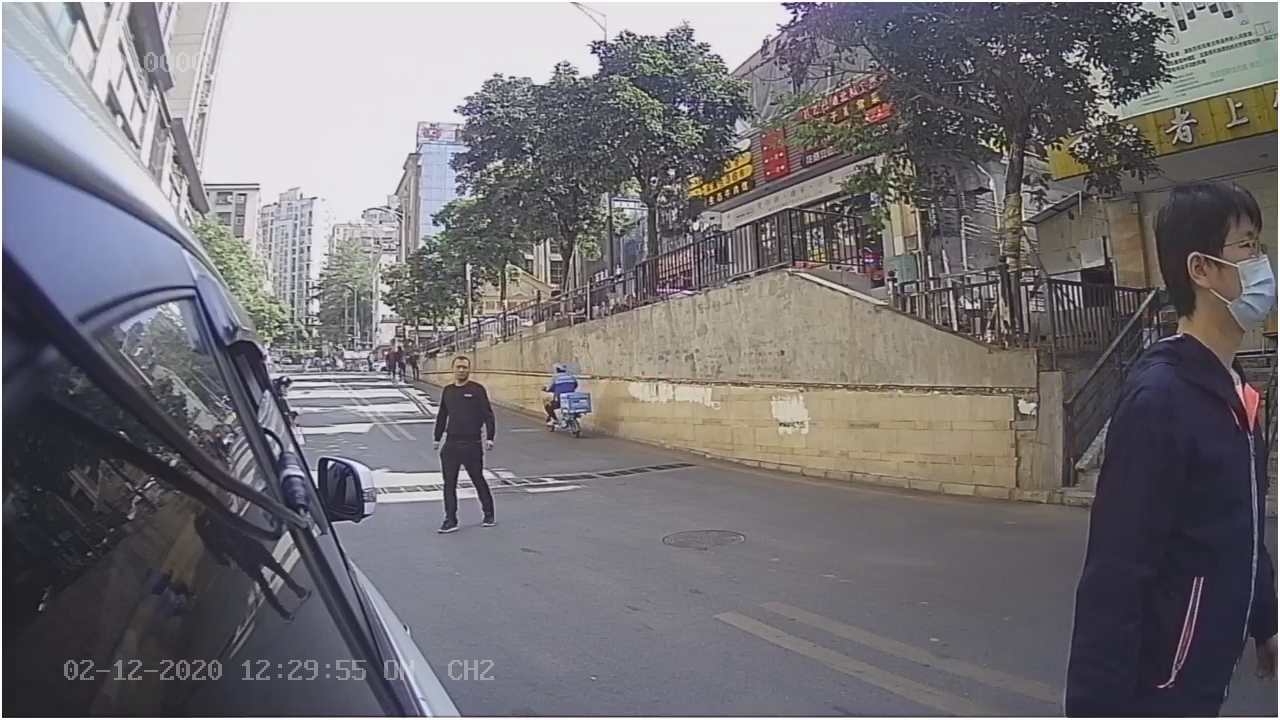person: (1067, 162, 1280, 592), (410, 350, 510, 546)
